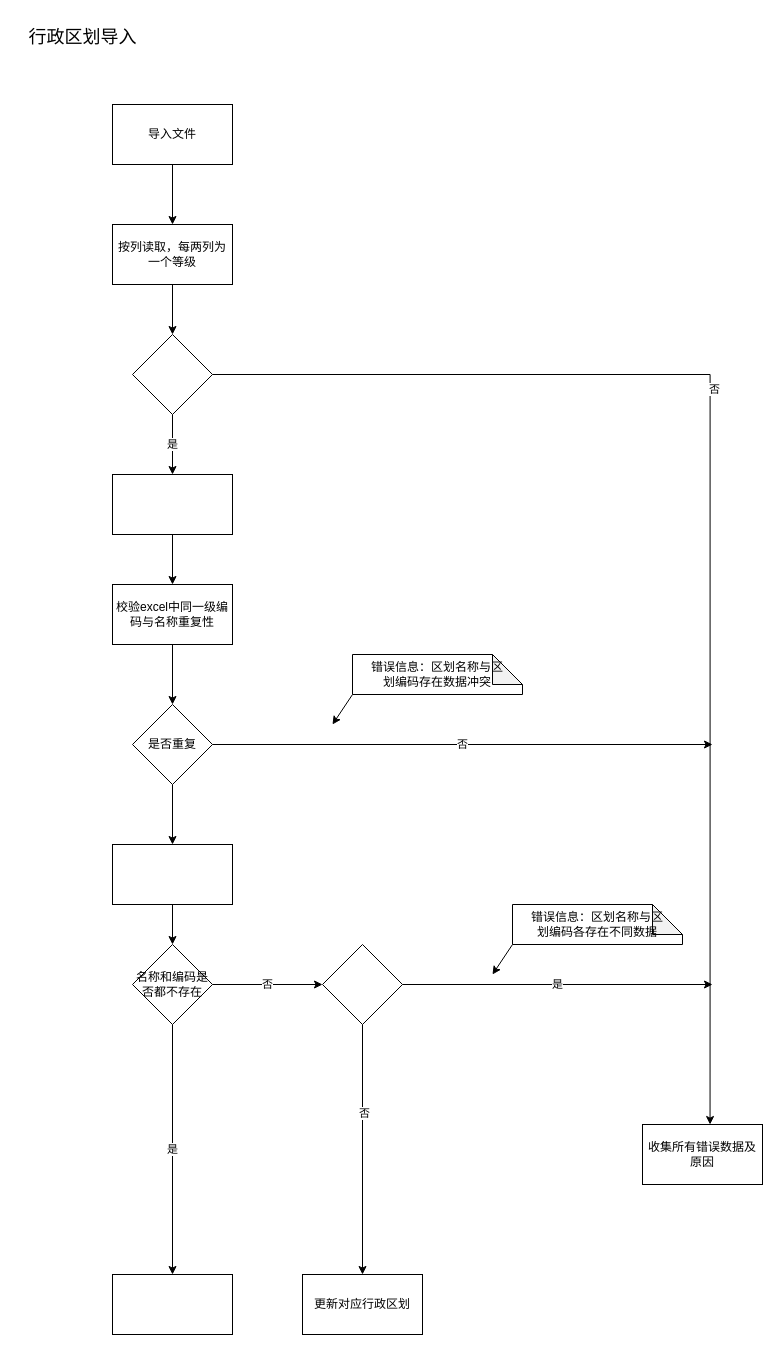
Some shapes in this 780 by 1352 pixel diagram are drawn without their labels. The centre of each missing label's shape, as x and y in pixels:
名称、编码各自对应数据库中不同数据: the point at 362,984
新增行政区划: the point at 172,1304
是否存在上一级区划: the point at 172,374
校验excel中数据与数据库数据: the point at 172,874
识别区划类型: the point at 172,504
